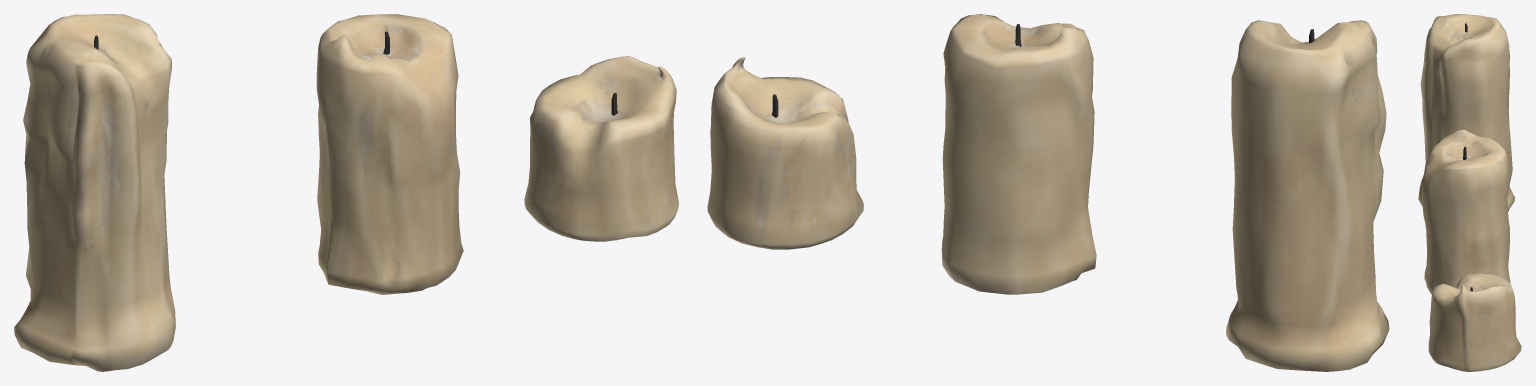
File: CANDLE_3.obj
The picture shows the model from 3 angles, left to right: view 1: azimuth 30°, elevation 25°; view 2: azimuth 150°, elevation 25°; view 3: azimuth 270°, elevation 25°; orthographic projection. The views are drawn at different scales.
Parts seen in each view (by area): view 1: object_0; view 2: object_0; view 3: object_0.
Boxes of the visible parts, left/top/right/bottom form: object_0: left=14, top=14, right=678, bottom=371; object_0: left=707, top=14, right=1389, bottom=371; object_0: left=1418, top=14, right=1521, bottom=371.
Size of the model in its own units: 40.52 by 18.47 by 9.41.
